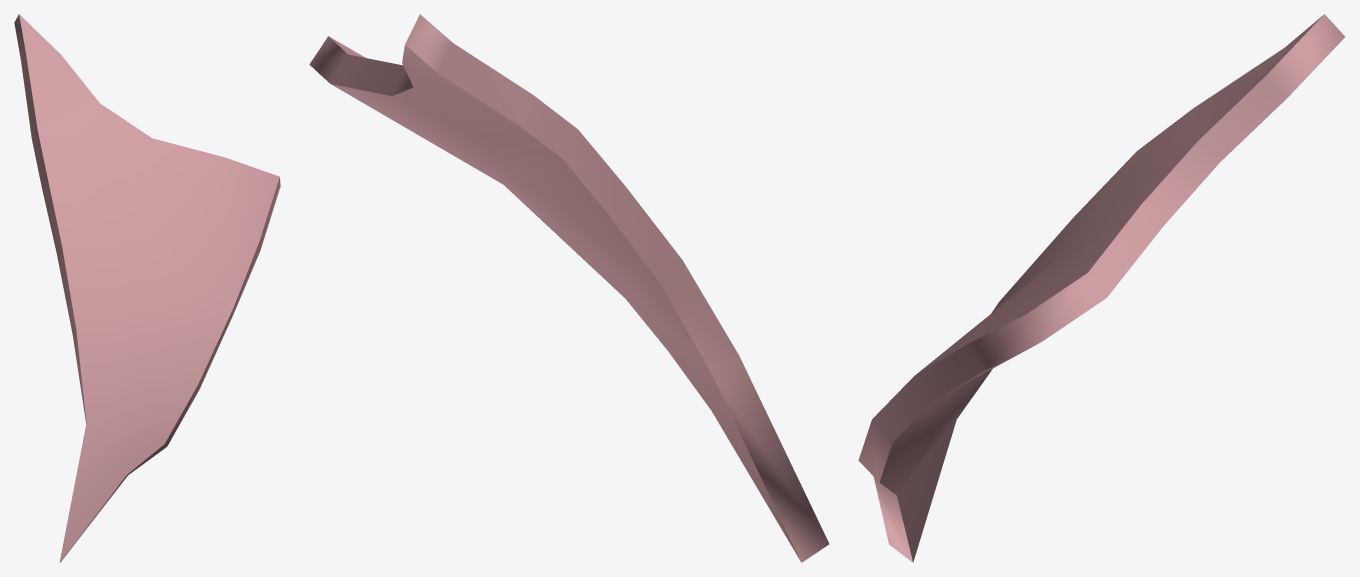
3 views of the same model, side by side, from view 1: azimuth 30°, elevation 25°; view 2: azimuth 150°, elevation 25°; view 3: azimuth 270°, elevation 25° (orthographic). The views are drawn at different scales.
Visible parts, largest first — view 1: ZA_a75dea51fd3c4337; view 2: ZA_a75dea51fd3c4337; view 3: ZA_a75dea51fd3c4337.
Part boxes in pixels (x1,y1,x2,y2): ZA_a75dea51fd3c4337: [14, 14, 280, 562]; ZA_a75dea51fd3c4337: [309, 14, 829, 562]; ZA_a75dea51fd3c4337: [858, 14, 1344, 562].
Size of the model in its own units: 0.0439 by 0.0648 by 0.0462.
